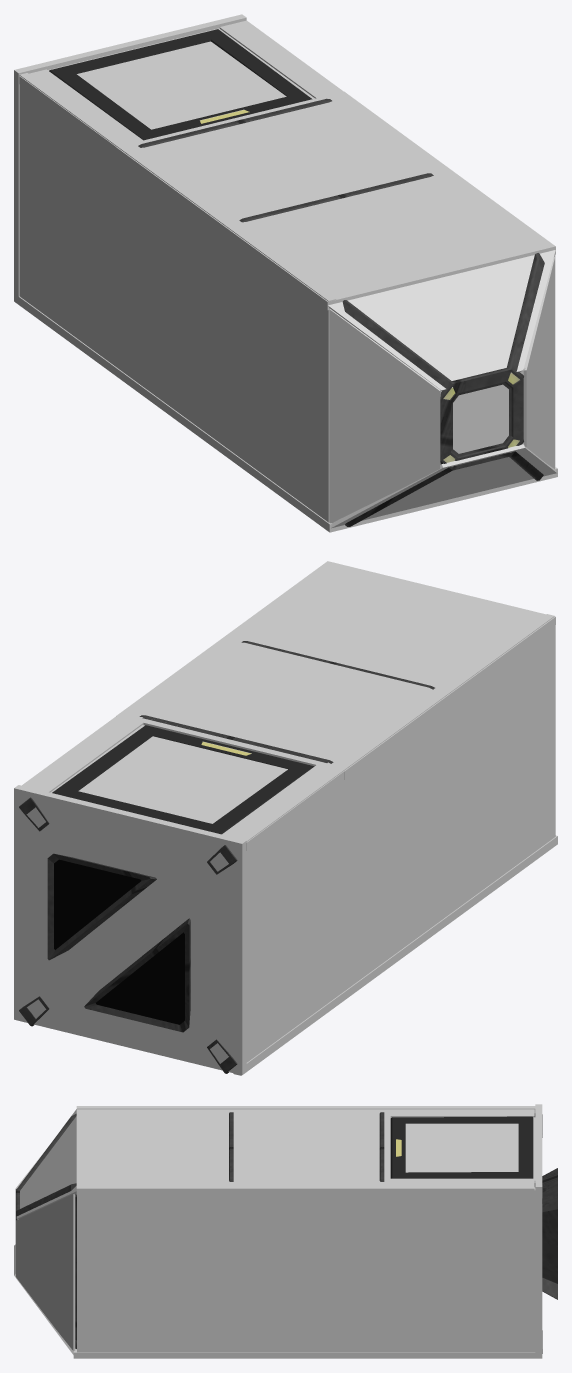
The model's file is ship_long.glb.
3 views of the same model, one above another, from view 1: azimuth 30°, elevation 25°; view 2: azimuth 150°, elevation 25°; view 3: azimuth 270°, elevation 25° (orthographic). The views are drawn at different scales.
Visible parts, largest first — view 1: COL_rightwall, COL_roof.003, COL_frontleft, COL_fronttop, COL_door, Circle, Circle_door_0.001, COL_frontbottom, COL_frontright, COL_floor, COL_back, COL_front (+3 smaller); view 2: COL_rightwall, COL_roof.003, COL_back, COL_door, Circle_black_0.001, Circle_door_0.001, Circle_boosters_0.001, COL_floor, COL_roof.001, COL_roof.002, Circle_ship_hull_1_0.001; view 3: COL_leftwall, COL_roof.003, COL_frontright, COL_door, Circle_door_0.001, COL_floor, COL_fronttop, COL_roof.001, COL_back, Circle_boosters_0.001, COL_rightwall, Circle (+2 smaller).
Boxes of the visible parts, left/top/right/bottom form: COL_rightwall: left=19, top=73, right=336, bottom=522; COL_roof.003: left=116, top=91, right=555, bottom=310; COL_frontleft: left=329, top=309, right=440, bottom=523; COL_fronttop: left=328, top=250, right=555, bottom=390; COL_door: left=48, top=28, right=314, bottom=129; Circle: left=239, top=173, right=544, bottom=526; Circle_door_0.001: left=49, top=29, right=312, bottom=140; COL_frontbottom: left=331, top=444, right=556, bottom=528; COL_frontright: left=523, top=257, right=554, bottom=468; COL_floor: left=14, top=295, right=557, bottom=532; COL_back: left=14, top=14, right=246, bottom=304; COL_front: left=441, top=368, right=526, bottom=453; COL_rightwall: left=233, top=614, right=554, bottom=1075; COL_roof.003: left=116, top=561, right=555, bottom=779; COL_back: left=14, top=785, right=246, bottom=1075; COL_door: left=50, top=725, right=287, bottom=823; Circle_black_0.001: left=54, top=859, right=184, bottom=1024; Circle_door_0.001: left=52, top=725, right=314, bottom=834; Circle_boosters_0.001: left=47, top=853, right=190, bottom=1032; COL_floor: left=243, top=835, right=557, bottom=1074; COL_roof.001: left=22, top=708, right=153, bottom=792; COL_roof.002: left=222, top=757, right=353, bottom=850; Circle_ship_hull_1_0.001: left=19, top=717, right=327, bottom=1073; COL_leftwall: left=77, top=1187, right=535, bottom=1352; COL_roof.003: left=76, top=1106, right=390, bottom=1194; COL_frontright: left=16, top=1194, right=75, bottom=1350; COL_door: left=405, top=1117, right=535, bottom=1182; Circle_door_0.001: left=390, top=1116, right=533, bottom=1178; COL_floor: left=73, top=1349, right=541, bottom=1358; COL_fronttop: left=16, top=1109, right=76, bottom=1219; COL_roof.001: left=375, top=1178, right=534, bottom=1194; COL_back: left=535, top=1104, right=542, bottom=1358; Circle_boosters_0.001: left=542, top=1168, right=557, bottom=1299; COL_rightwall: left=77, top=1106, right=535, bottom=1112; Circle: left=16, top=1112, right=233, bottom=1348.
Bounding box in the file's own units: 37.42 × 36.98 × 104.
10 materials, 7 textured.
